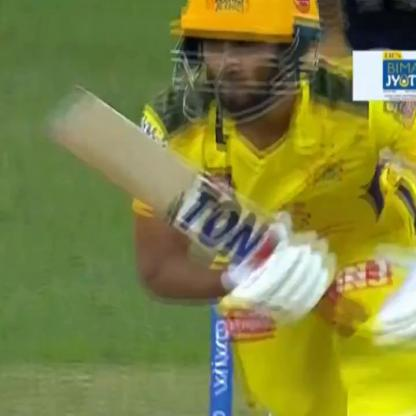bat: (34, 75, 374, 316)
